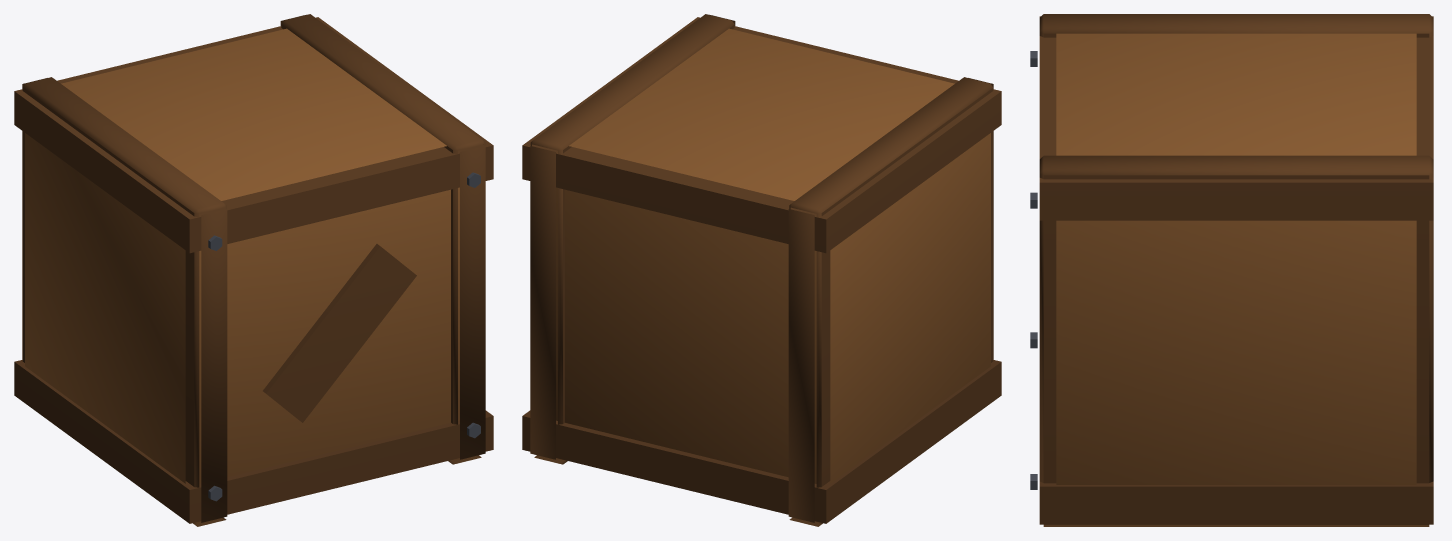
Rendered from crate.glb.
The picture shows the model from 3 angles, left to right: view 1: azimuth 30°, elevation 25°; view 2: azimuth 150°, elevation 25°; view 3: azimuth 270°, elevation 25°; orthographic projection. The views are drawn at different scales.
Parts seen in each view (by area): view 1: crate, crate_craft; view 2: crate; view 3: crate, crate_craft.
Boxes of the visible parts, x1,y1,x2,y2 form: crate: (14, 14, 493, 526); crate_craft: (208, 172, 480, 501); crate: (522, 14, 1001, 526); crate: (1039, 14, 1433, 526); crate_craft: (1030, 51, 1037, 489).
Bounding box in the file's own units: 0.94 × 0.94 × 0.972.
